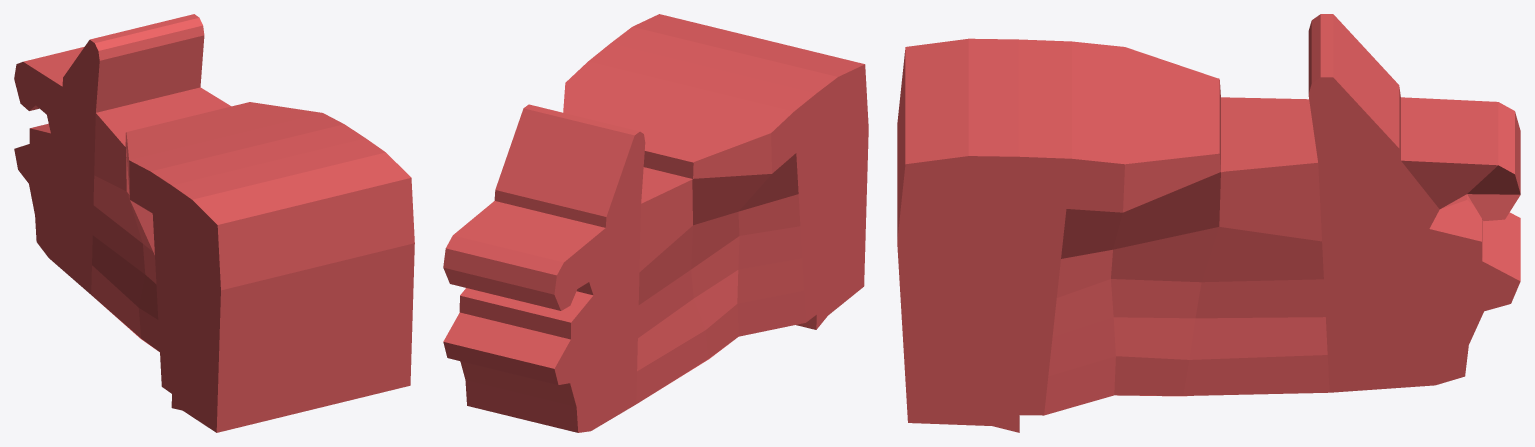
Rendered from Body_Torgue.glb.
The picture shows the model from 3 angles, left to right: view 1: azimuth 30°, elevation 25°; view 2: azimuth 150°, elevation 25°; view 3: azimuth 270°, elevation 25°; orthographic projection. The views are drawn at different scales.
Visible parts, largest first — view 1: Body.Torgue; view 2: Body.Torgue; view 3: Body.Torgue.
Part boxes in pixels (x1,y1,x2,y2): Body.Torgue: (14,14,414,432); Body.Torgue: (443,14,868,432); Body.Torgue: (897,14,1520,432).
Bounding box in the file's own units: 0.3177 × 0.4151 × 0.7137.
